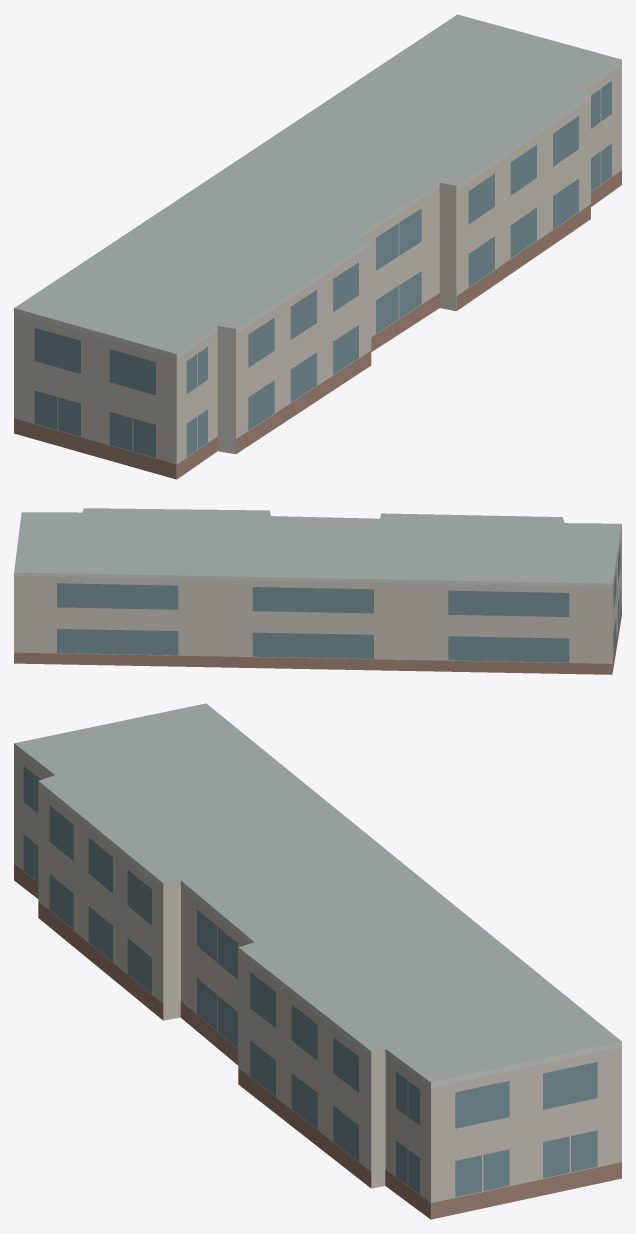
File: survey-upis-32735163.glb
3 views of the same model, one above another, from view 1: azimuth 30°, elevation 25°; view 2: azimuth 150°, elevation 25°; view 3: azimuth 270°, elevation 25° (orthographic). The views are drawn at different scales.
Parts seen in each view (by area): view 1: survey-upis-32735163.tmp; view 2: survey-upis-32735163.tmp; view 3: survey-upis-32735163.tmp.
Part boxes in pixels (x1,y1,x2,y2): survey-upis-32735163.tmp: (14, 14, 621, 479); survey-upis-32735163.tmp: (14, 508, 621, 674); survey-upis-32735163.tmp: (14, 703, 621, 1219).
Size of the model in its own units: 36.17 by 6.1 by 24.51.
